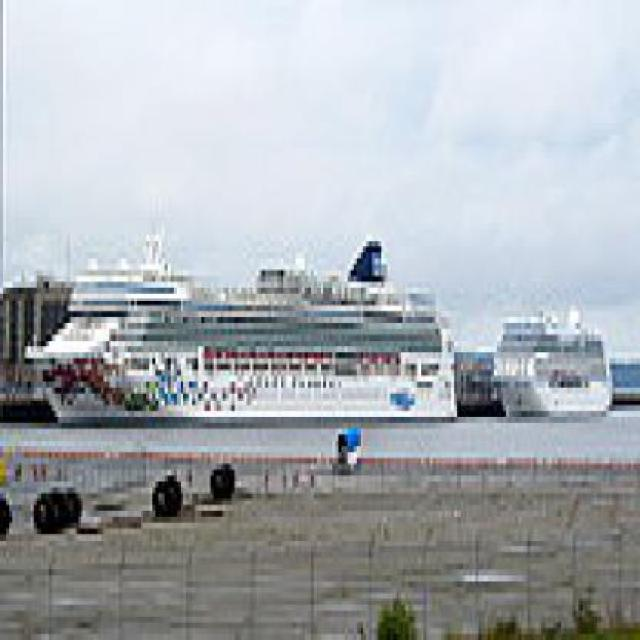cruise: (17, 219, 468, 436), (492, 294, 619, 430)
